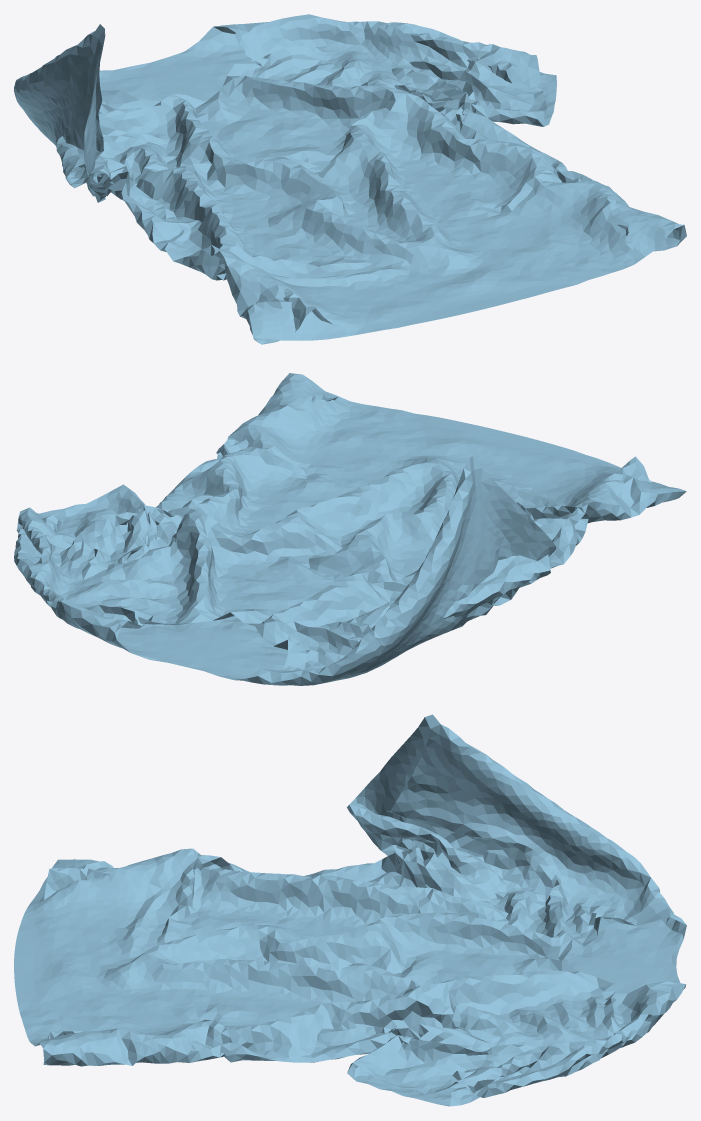
File: frame_09.glb
The picture shows the model from 3 angles, top to bottom: view 1: azimuth 30°, elevation 25°; view 2: azimuth 150°, elevation 25°; view 3: azimuth 270°, elevation 25°; orthographic projection. The views are drawn at different scales.
Visible parts, largest first — view 1: frame_09.obj; view 2: frame_09.obj; view 3: frame_09.obj.
Boxes of the visible parts, bbox=[...] form: frame_09.obj: bbox=[14, 14, 686, 344]; frame_09.obj: bbox=[14, 373, 686, 685]; frame_09.obj: bbox=[14, 714, 686, 1106].
Size of the model in its own units: 1.53 by 0.4966 by 1.73.
